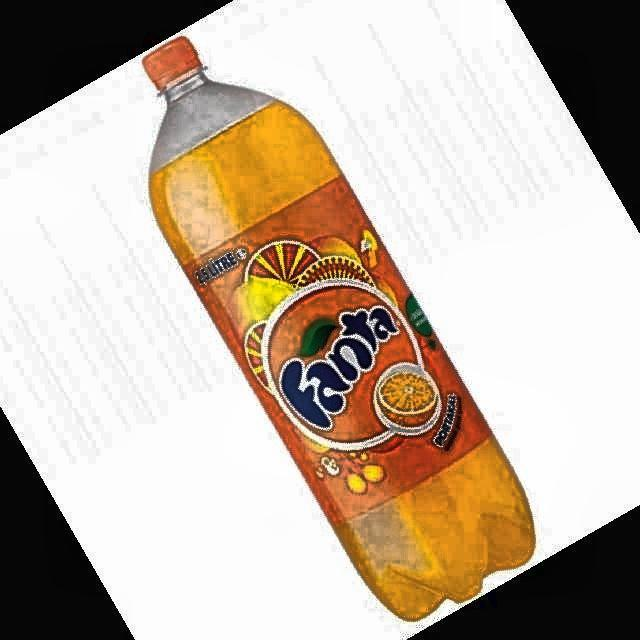plastic: (145, 39, 535, 619)
